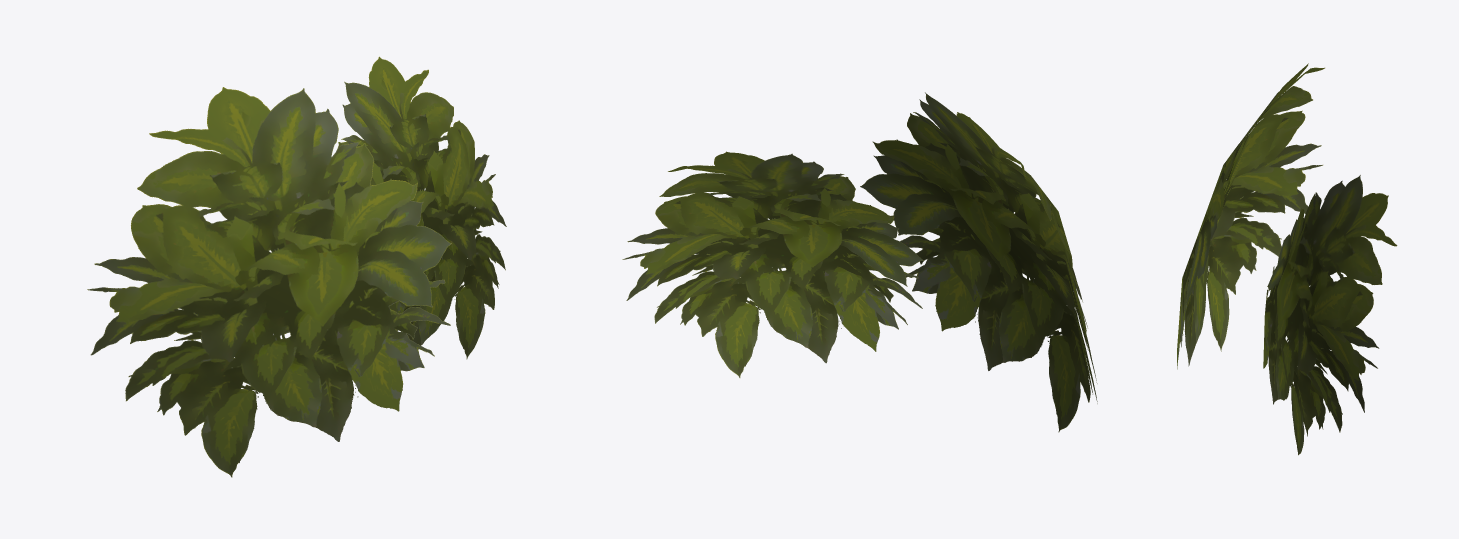
Rendered from SM_Env_PlantGroup02.fbx.
3 renders of one model, left to right at view 1: azimuth 30°, elevation 25°; view 2: azimuth 150°, elevation 25°; view 3: azimuth 270°, elevation 25°, orthographic. The views are drawn at different scales.
Parts seen in each view (by area): view 1: SM_Env_PlantGroup02; view 2: SM_Env_PlantGroup02; view 3: SM_Env_PlantGroup02.
Boxes of the visible parts, x1,y1,x2,y2 form: SM_Env_PlantGroup02: (87,56,506,477); SM_Env_PlantGroup02: (622,92,1097,432); SM_Env_PlantGroup02: (1177,63,1397,455).
Size of the model in its own units: 0.8114 by 0.6872 by 0.4744.
1 material, 1 textured.
